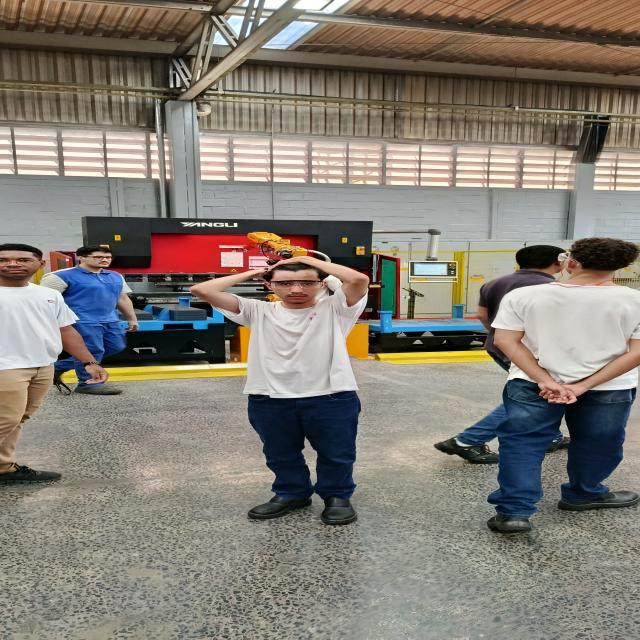oculos-epi: (269, 279, 323, 289), (558, 252, 579, 266)
sem_oculos: (0, 242, 46, 286), (512, 243, 564, 278), (69, 245, 118, 272)
